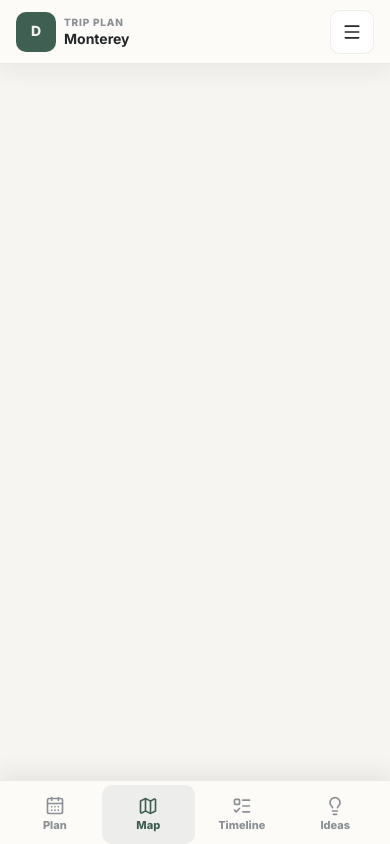
it: <MobileWorkspaceChrome> › renders a labelled right-aligned popup dialog and initially focuses its close control
Click the button named "open trip menu": point(352, 32) left=330, top=10, right=374, bottom=54
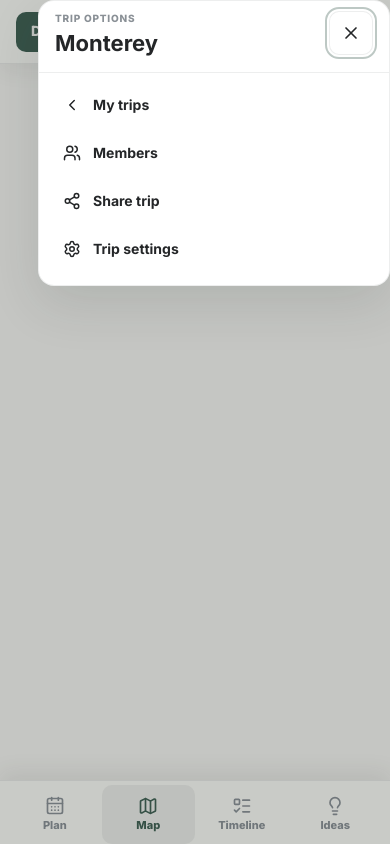
Now the button named "open trip menu" is expanded, box left=330, top=10, right=374, bottom=54
